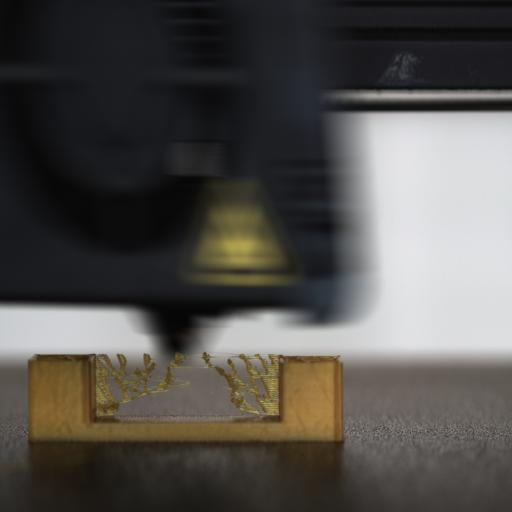stringing: (96, 348, 278, 416)
